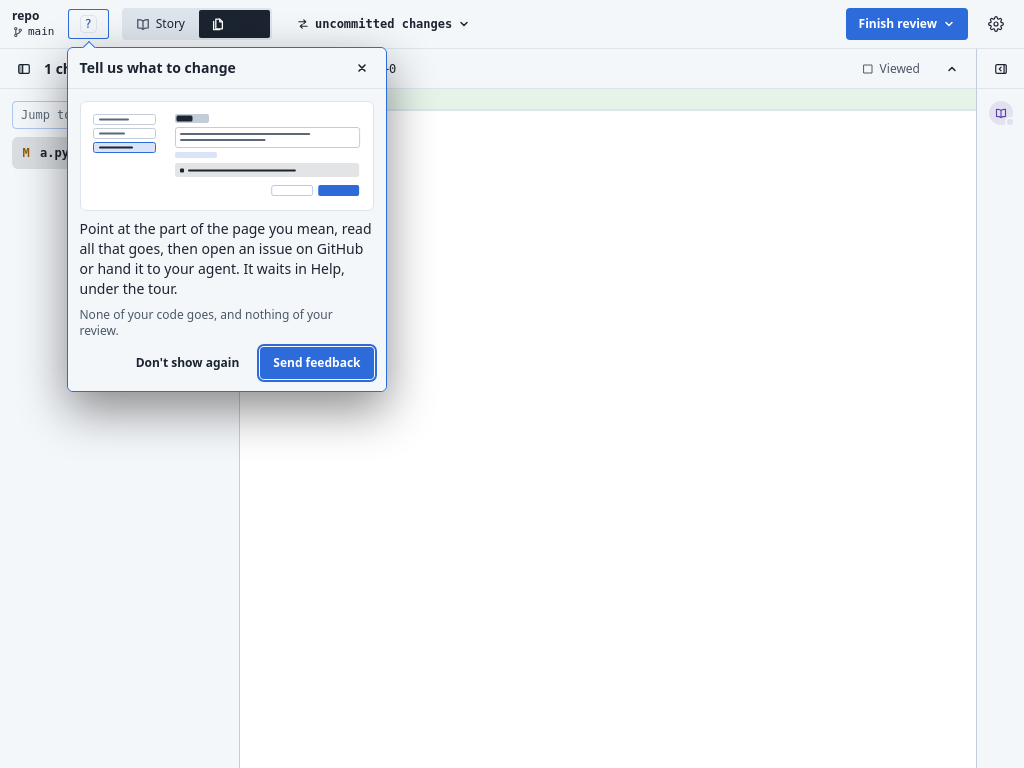
Test: Send feedback introduced under Help › opens the card by Send feedback, and stands no more
Click the button with test id "feedback-introduction-send".
click(317, 363)  # box x1=260 y1=347 x2=374 y2=379
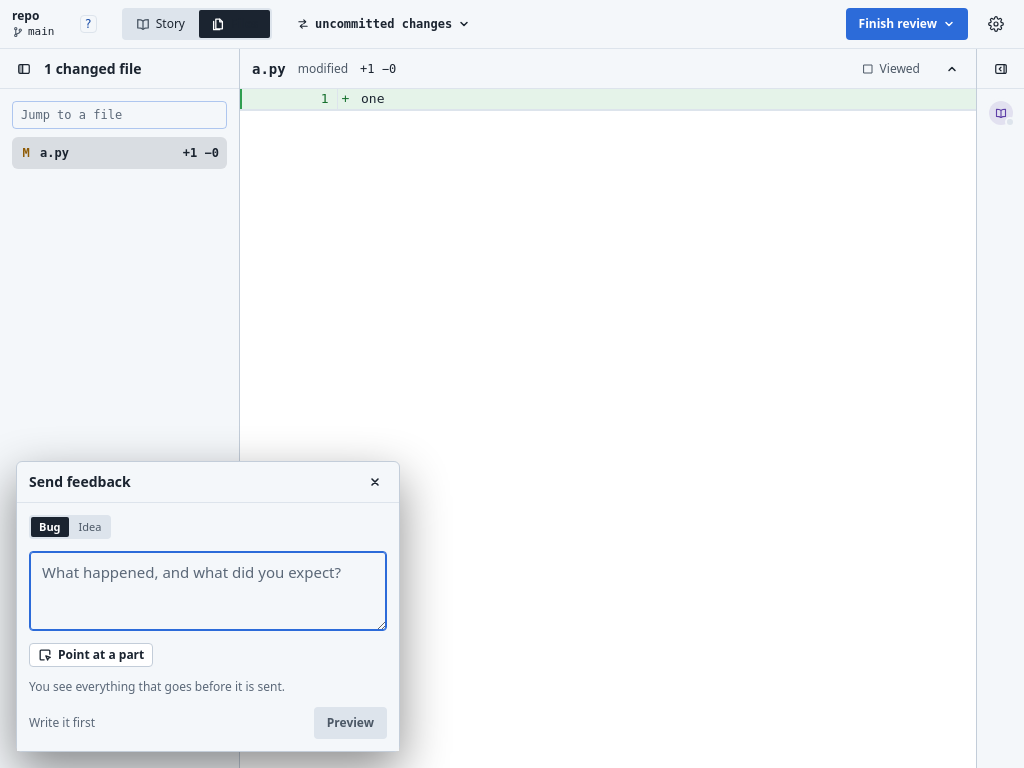
Now the element with test id "feedback" is shown, box x1=16 y1=461 x2=400 y2=752
Now the dialog with test id "feedback-introduction" is gone
